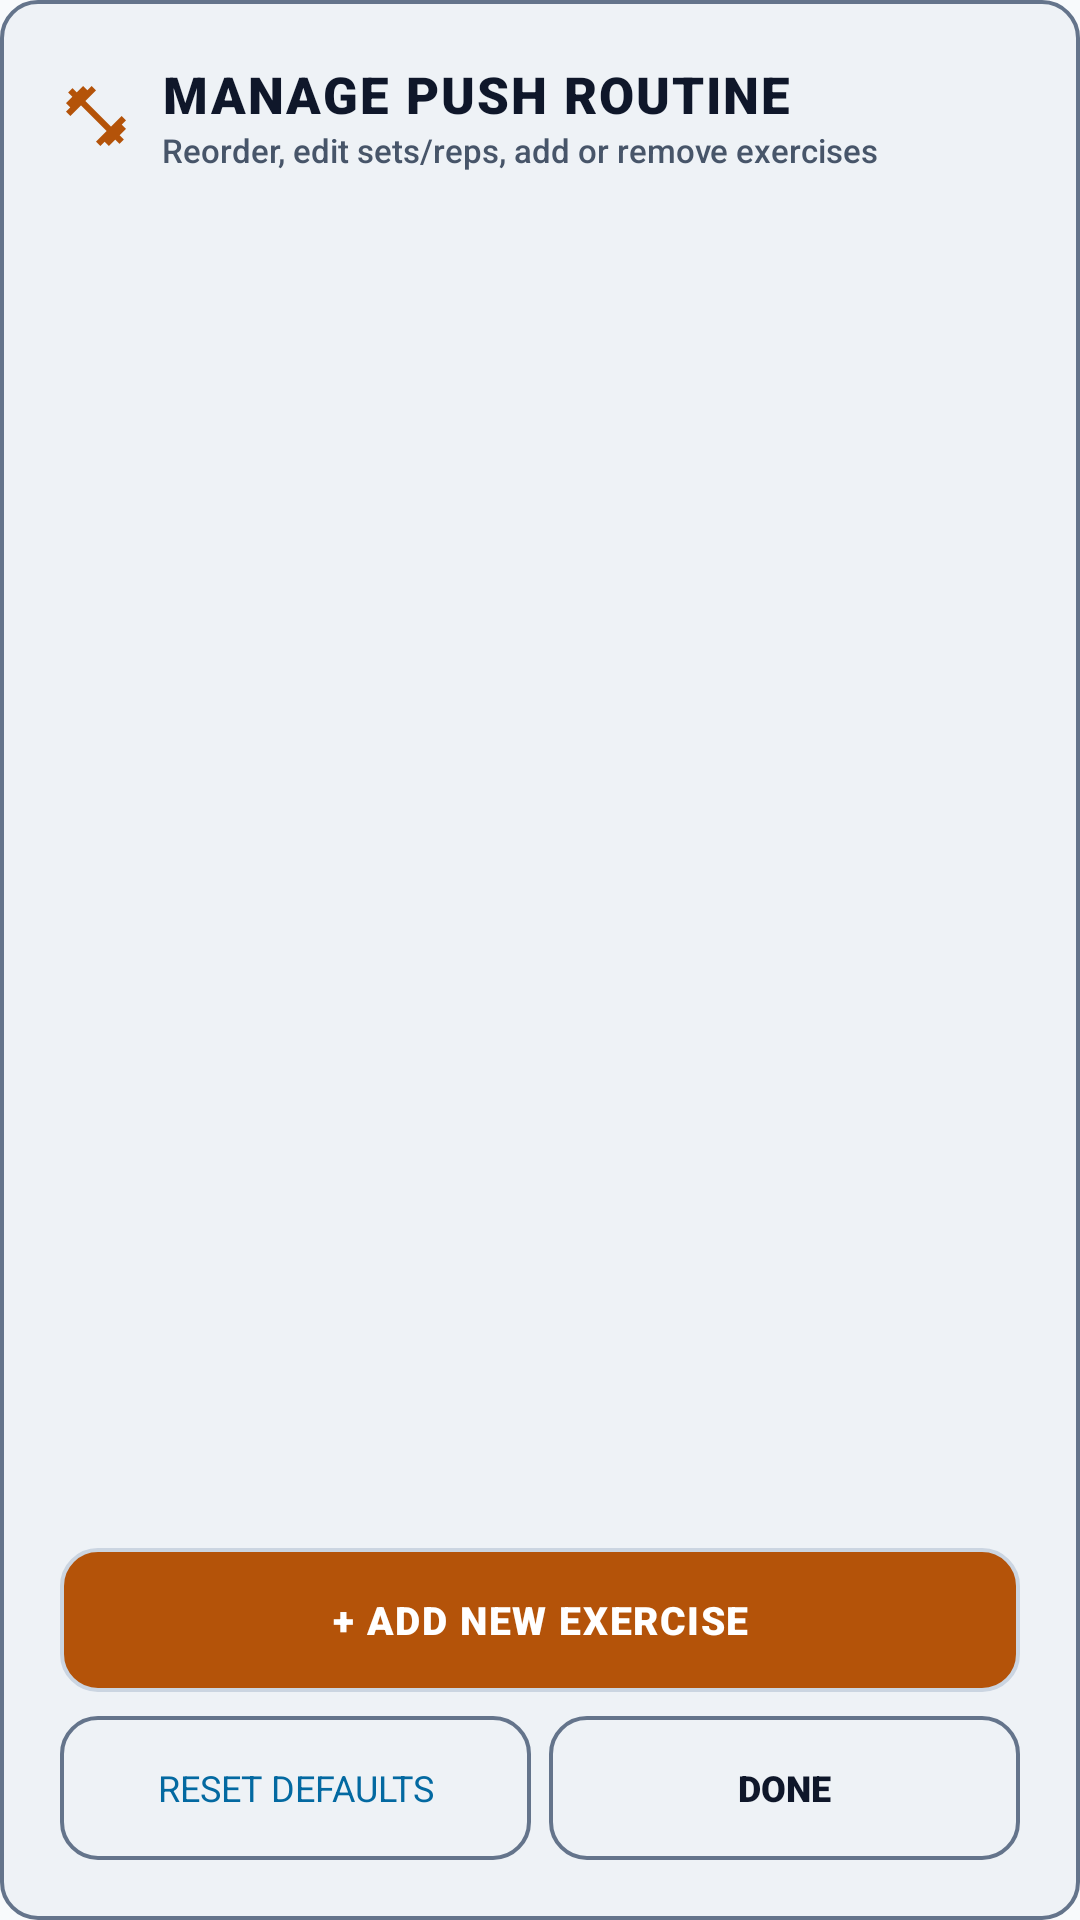

Screen size 1080x1920. Icon name, then its center in pixels as point (x, y):
dumbbell: point (96, 116)
